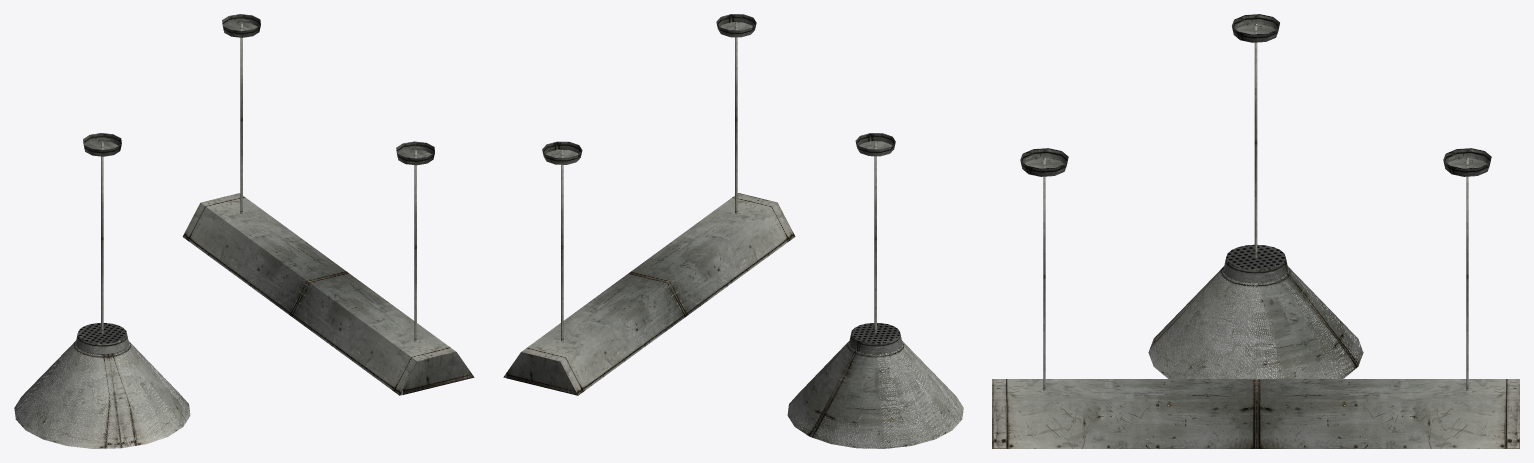
The model's file is hospital_lamps.fbx.
3 views of the same model, side by side, from view 1: azimuth 30°, elevation 25°; view 2: azimuth 150°, elevation 25°; view 3: azimuth 270°, elevation 25° (orthographic). The views are drawn at different scales.
Visible parts, largest first — view 1: lamp_B, lamp_A; view 2: lamp_B, lamp_A; view 3: lamp_B, lamp_A.
Part boxes in pixels (x1,y1,x2,y2): lamp_B: (182, 14, 474, 395); lamp_A: (14, 133, 190, 448); lamp_B: (503, 14, 795, 395); lamp_A: (787, 133, 963, 448); lamp_B: (992, 148, 1519, 448); lamp_A: (1148, 14, 1363, 378).
Size of what is drawn, in the model's own units: 13.54 by 10.28 by 14.97.
